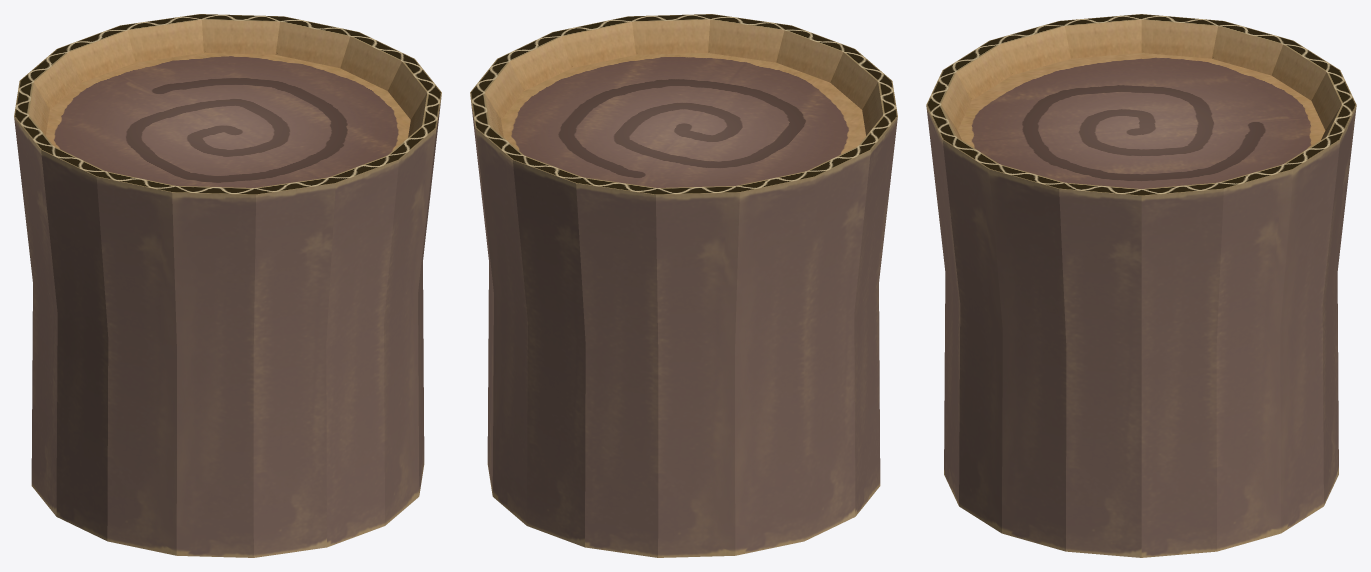
File: Platform V Trunk.fbx
3 views of the same model, side by side, from view 1: azimuth 30°, elevation 25°; view 2: azimuth 150°, elevation 25°; view 3: azimuth 270°, elevation 25° (orthographic).
Parts seen in each view (by area): view 1: V_Trunk; view 2: V_Trunk; view 3: V_Trunk.
Boxes of the visible parts, x1,y1,x2,y2 form: V_Trunk: [14, 14, 441, 557]; V_Trunk: [470, 14, 897, 557]; V_Trunk: [926, 14, 1356, 557].
Size of the model in its own units: 0.6718 by 0.6374 by 0.6718.
